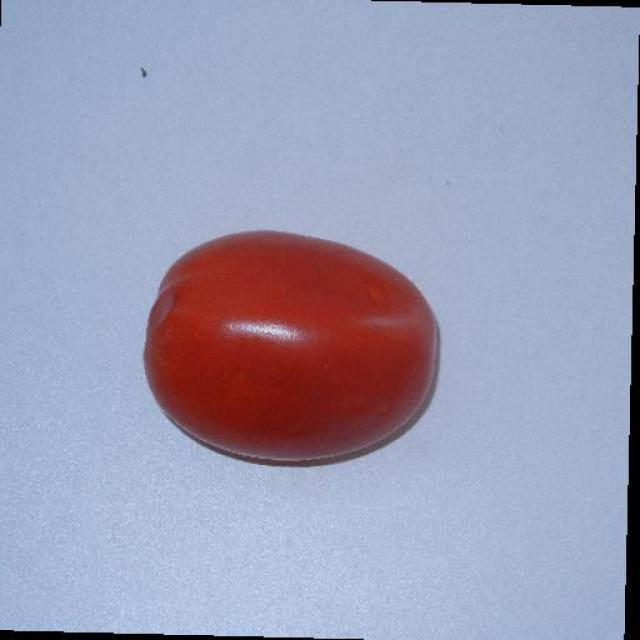Fresh Tomato: (120, 195, 454, 504)
